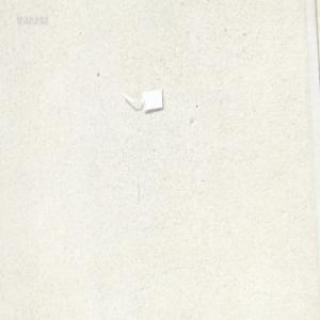LuggageTagtrack_idkeyframe: (120, 86, 162, 112)
